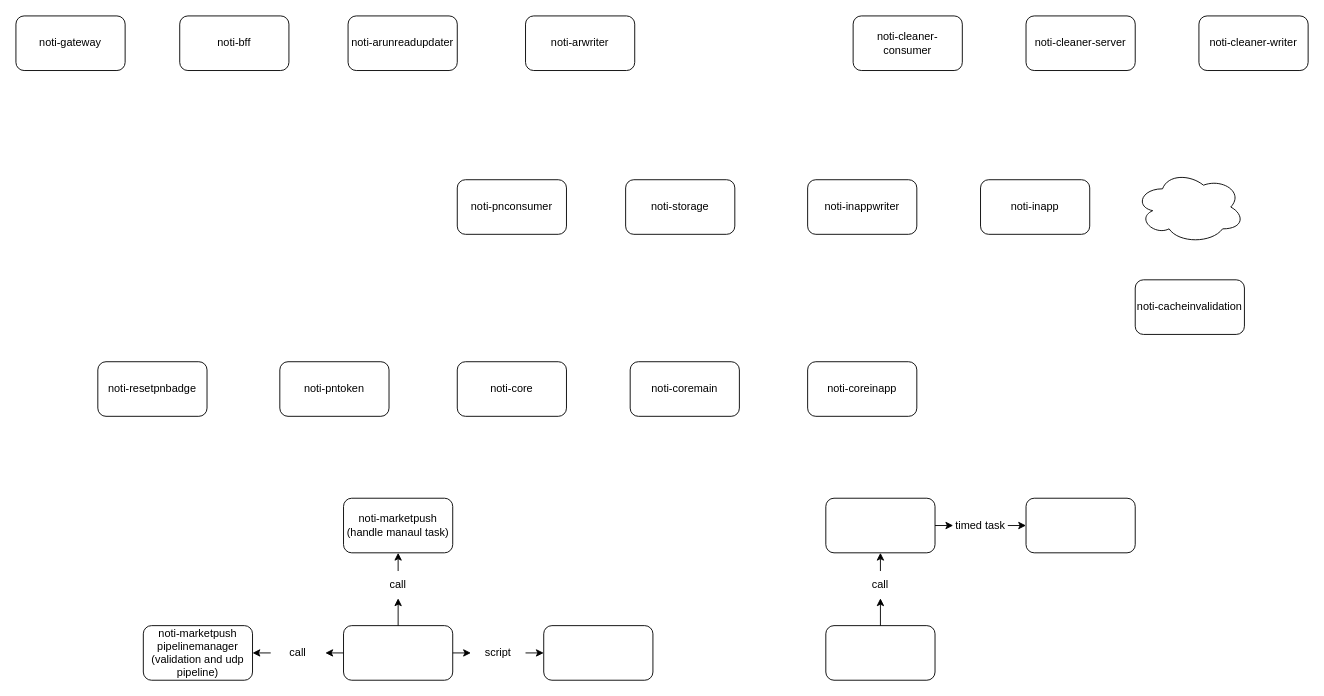
This 1324x696 diagram has some shape labels left out. Here are the shapes that lost their labels. From the top down, the centre of each, then its label:
(x=1189, y=206): nac
(x=880, y=525): noti-scheduler (handle transactional task, inapp and crm task and trigger noti)
(x=1080, y=525): noti-dispatcher (send crm task)
(x=398, y=652): noti-admin-marketpush (manaul task front processor)
(x=598, y=652): noti-admin-marketpushcron (prioritisation)
(x=880, y=652): noti-admin (transactional task, inapp and crm front processor)
